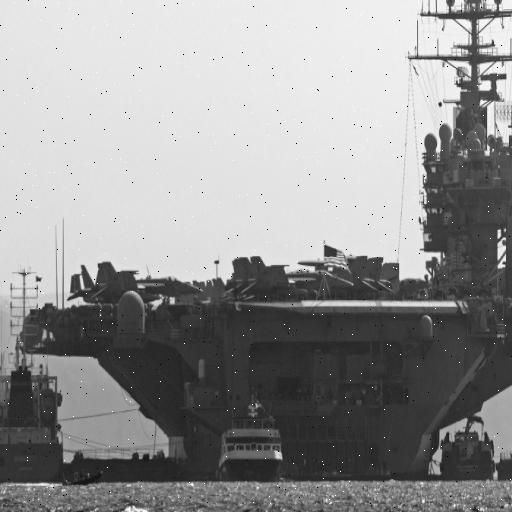Portanaves: (18, 1, 512, 485)
